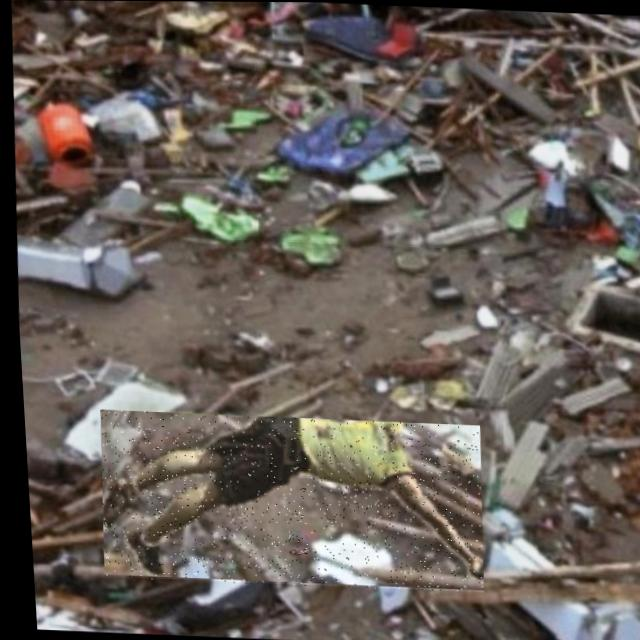Person in Rubble: (89, 409, 482, 593)
